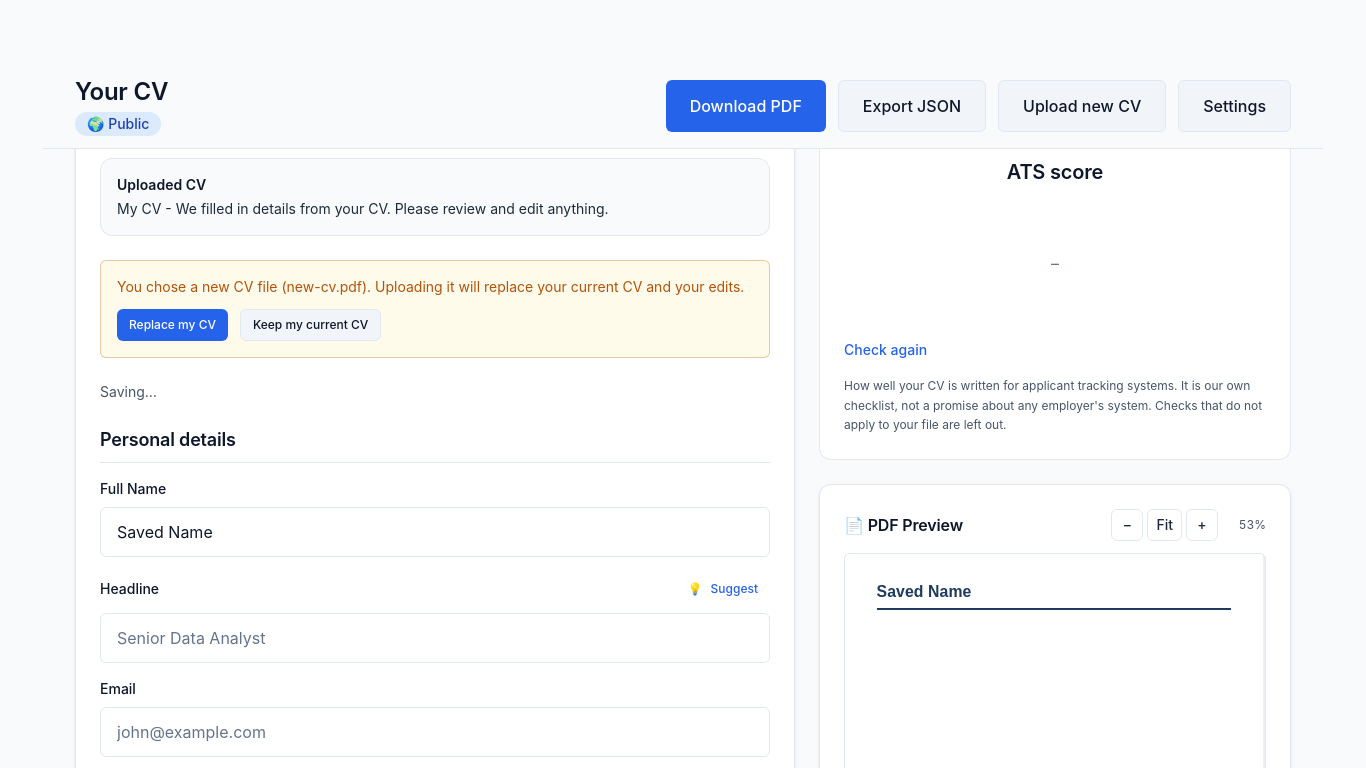
CanvasPage saving › asks before a file chosen at login replaces the saved CV
This screenshot has width=1366, height=768.
Check: the text "You chose a new CV file (new-cv.pdf)" is shown, box [117, 277, 753, 297]
Click the button "Keep my current CV".
click(311, 325)  # box [240, 309, 381, 341]
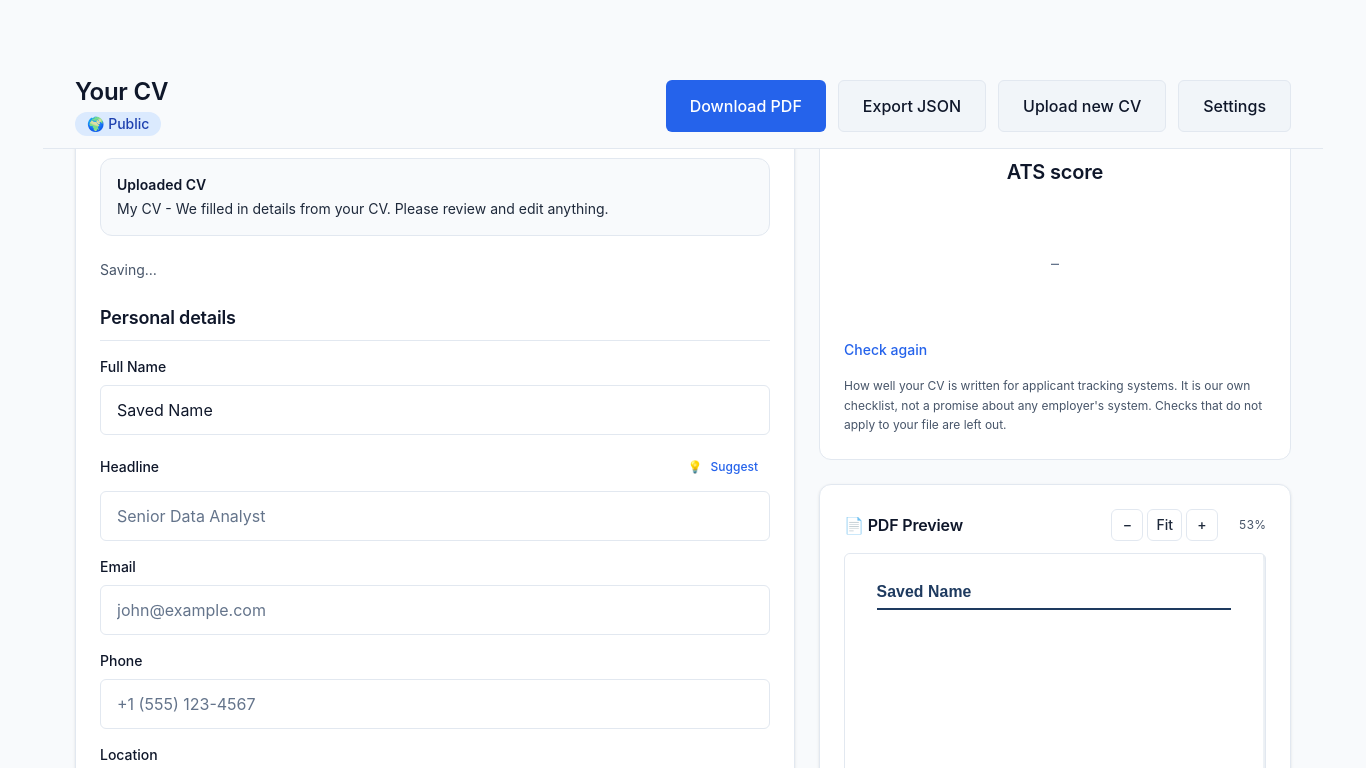
Check: the field labelled "Full Name" holds "Saved Name", box [100, 385, 770, 435]
Check: the text "You chose a new CV file" is gone
